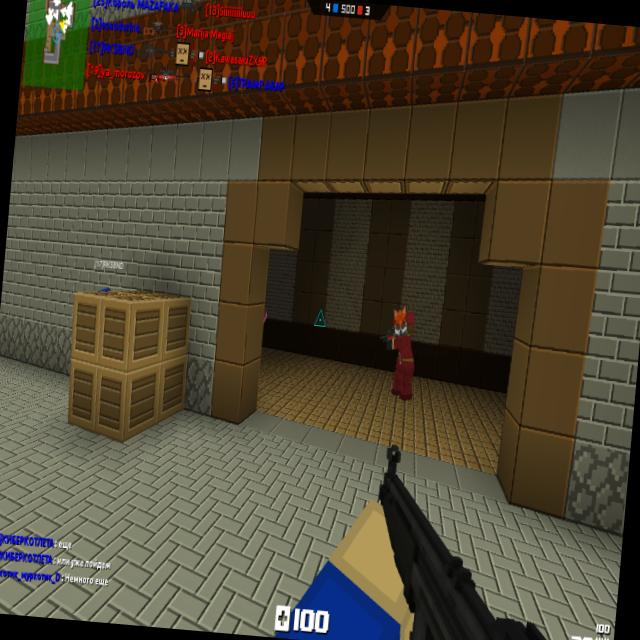enemy: (381, 306, 420, 400)
